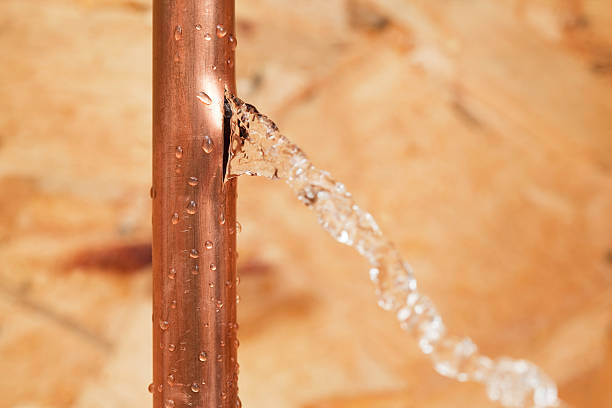rupture: (212, 75, 258, 196)
